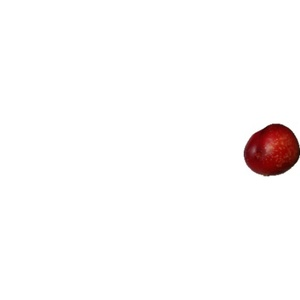nectarina: (245, 124, 300, 177)
